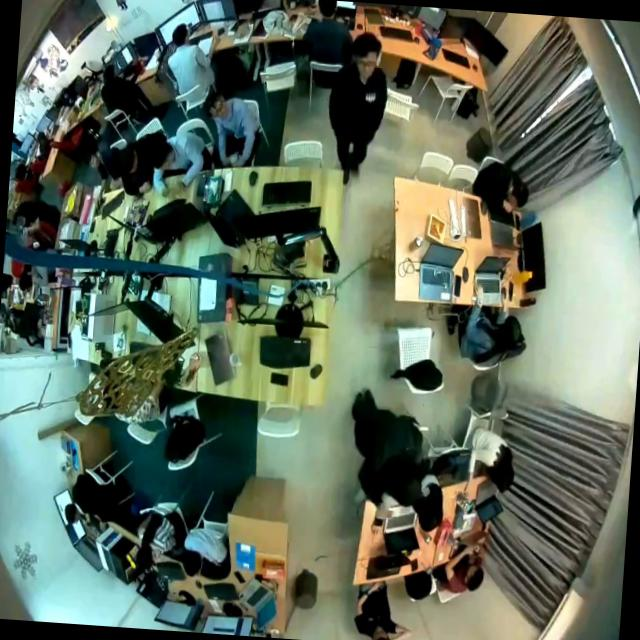employee_tag: (362, 90, 378, 104)
